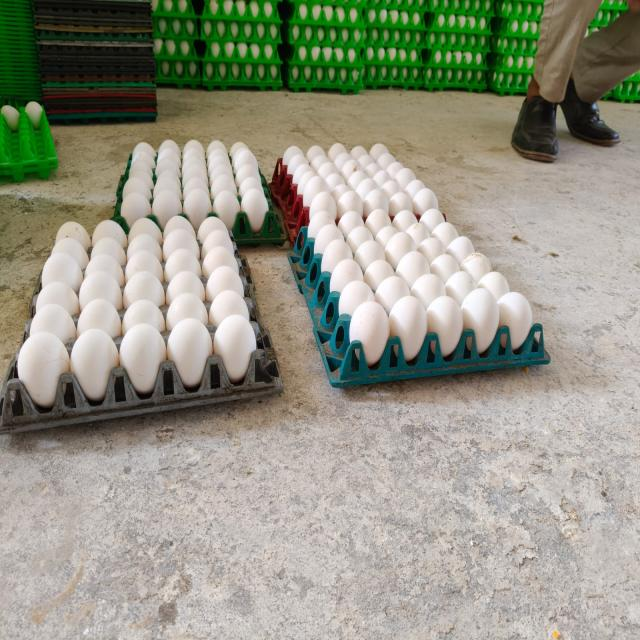egg_tray: (283, 143, 548, 385), (0, 217, 282, 431), (288, 231, 549, 386), (114, 140, 286, 243), (270, 143, 437, 243), (35, 2, 157, 123), (201, 0, 282, 89), (284, 2, 363, 93), (424, 0, 493, 90), (362, 0, 426, 87), (27, 0, 162, 38), (487, 2, 542, 94), (0, 101, 57, 181), (152, 0, 201, 87), (0, 0, 40, 101), (202, 41, 282, 90), (50, 88, 157, 124), (285, 46, 364, 93), (424, 34, 490, 90), (285, 0, 364, 46), (426, 0, 494, 52), (200, 0, 281, 43), (269, 158, 307, 244), (0, 28, 41, 104), (487, 33, 537, 94), (201, 0, 281, 37), (491, 0, 543, 55), (365, 2, 426, 46), (364, 46, 424, 88), (425, 50, 488, 90), (154, 39, 200, 87), (152, 0, 199, 39), (488, 55, 532, 94), (364, 0, 429, 26), (288, 44, 360, 67), (424, 66, 487, 91), (426, 29, 491, 53), (427, 11, 492, 34), (424, 67, 486, 91), (586, 0, 628, 35), (156, 55, 200, 87), (586, 0, 627, 34), (588, 0, 627, 34), (490, 33, 537, 58), (428, 50, 486, 70), (602, 73, 640, 102), (495, 0, 543, 22), (153, 18, 198, 41), (602, 74, 640, 101), (426, 0, 494, 15), (154, 17, 198, 39), (154, 37, 198, 59), (494, 18, 540, 39), (608, 72, 640, 101), (151, 0, 197, 19), (600, 0, 628, 11), (600, 0, 628, 10), (3, 0, 23, 13), (376, 308, 385, 334), (360, 308, 373, 319), (586, 26, 600, 35), (403, 300, 416, 308), (366, 18, 375, 23), (438, 301, 445, 306), (176, 0, 183, 4), (358, 323, 362, 330), (218, 32, 225, 36), (106, 79, 117, 81), (366, 326, 370, 330), (432, 309, 435, 313), (397, 308, 400, 312), (505, 0, 510, 2), (0, 17, 3, 20), (69, 37, 73, 39), (526, 64, 529, 66), (378, 334, 380, 337), (390, 318, 391, 324), (450, 303, 452, 306), (318, 47, 320, 49), (100, 37, 102, 38), (150, 84, 151, 86), (114, 76, 115, 78), (351, 49, 353, 50), (542, 0, 544, 1), (312, 227, 313, 229), (120, 108, 122, 108), (143, 81, 152, 81), (34, 43, 34, 43), (372, 14, 372, 16), (372, 316, 373, 316), (374, 300, 374, 302)
